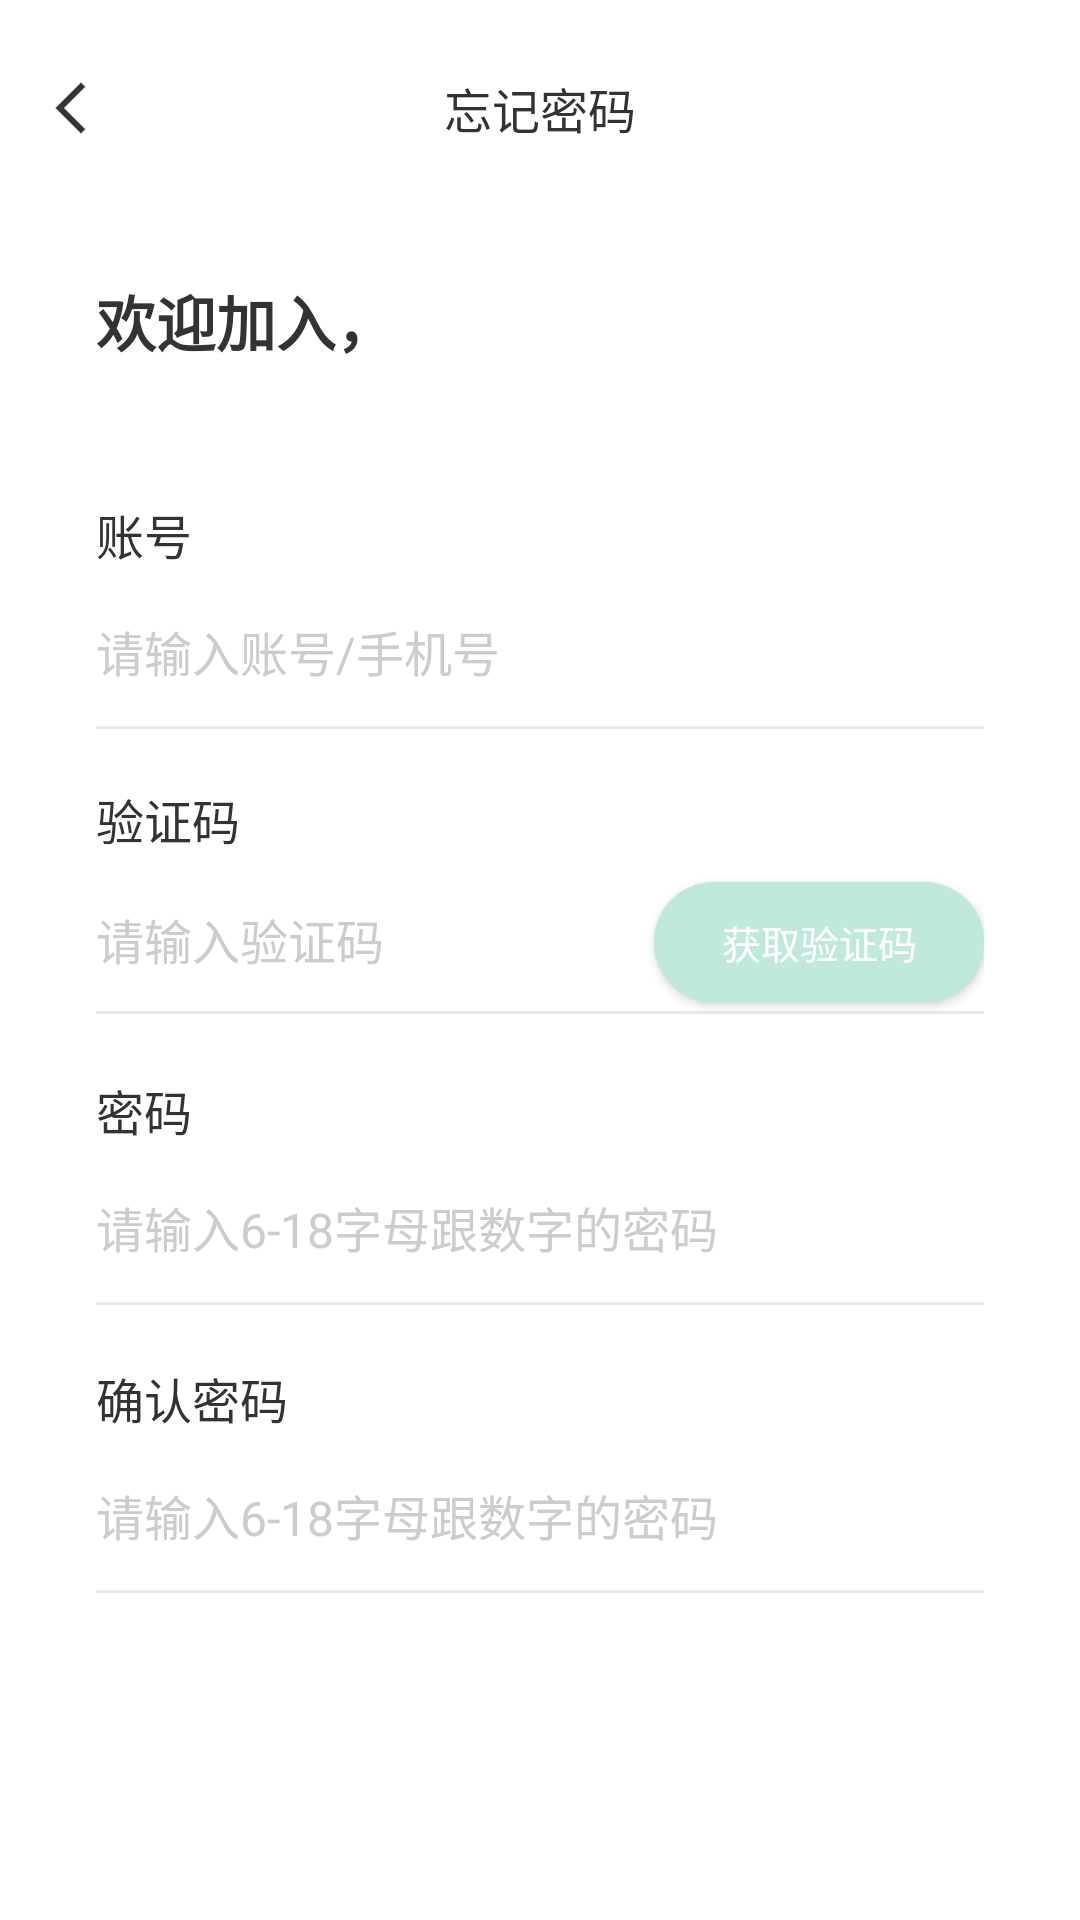

Named icons in this screenshot (1080px×1920px) and their bounding boxes, {"x1": x1, "y1": y1, "x2": x2, "y2": y2}:
return: {"x1": 55, "y1": 82, "x2": 86, "y2": 134}
